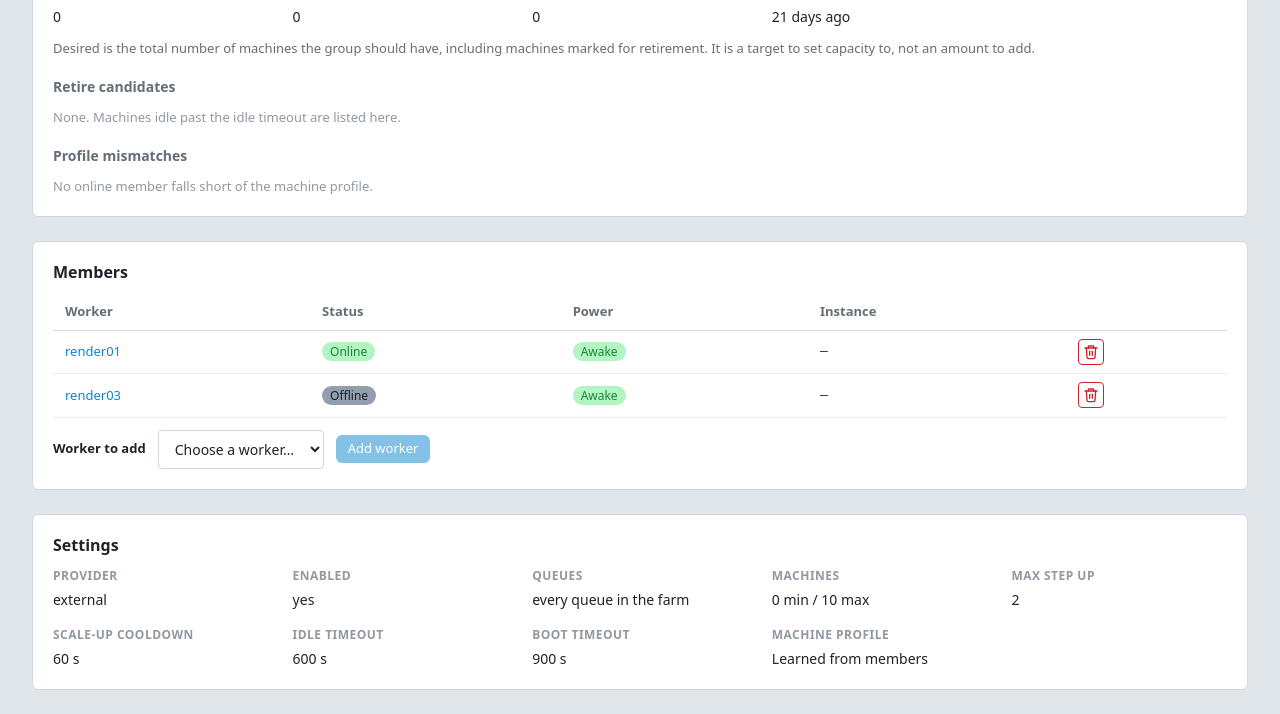
Scenario: members of a named group › shows the server reason when adding is refused
(page scrolled)
Select "render02" in the dropdown labelled "Worker to add" at (241, 449), box [158,430,324,468]
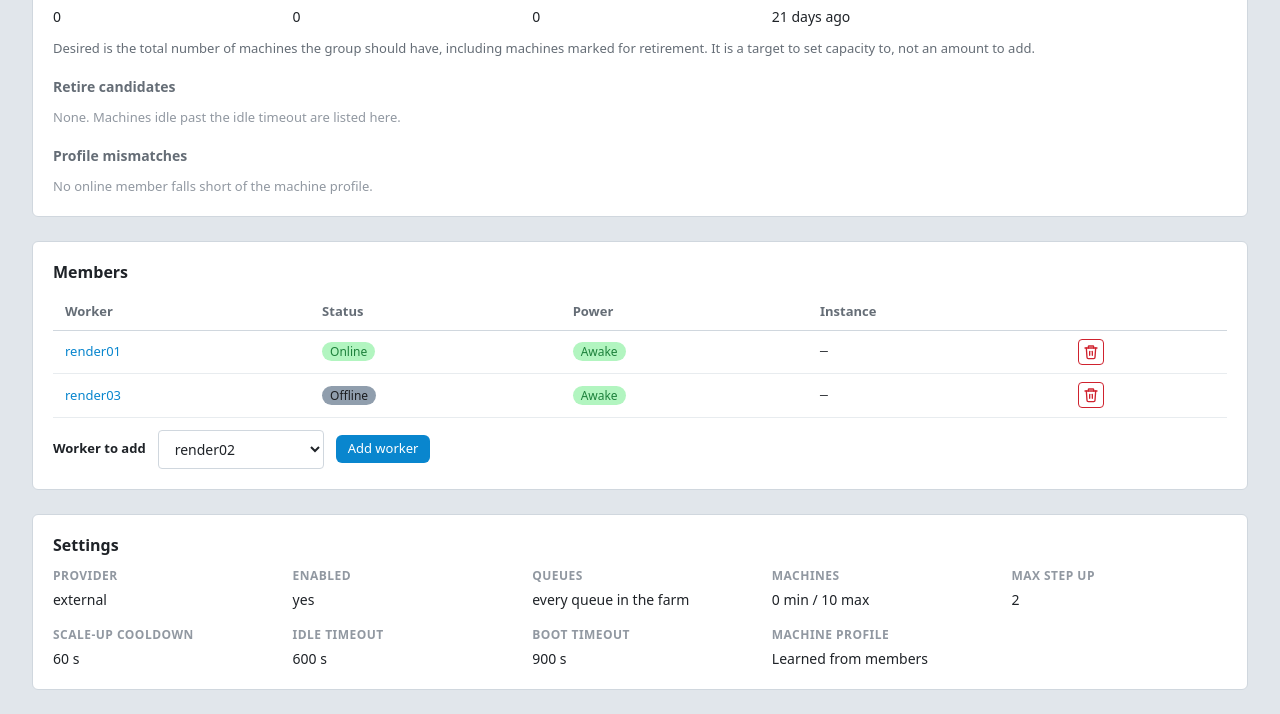
Click the button "Add worker" at (383, 449), box [336,435,430,463]
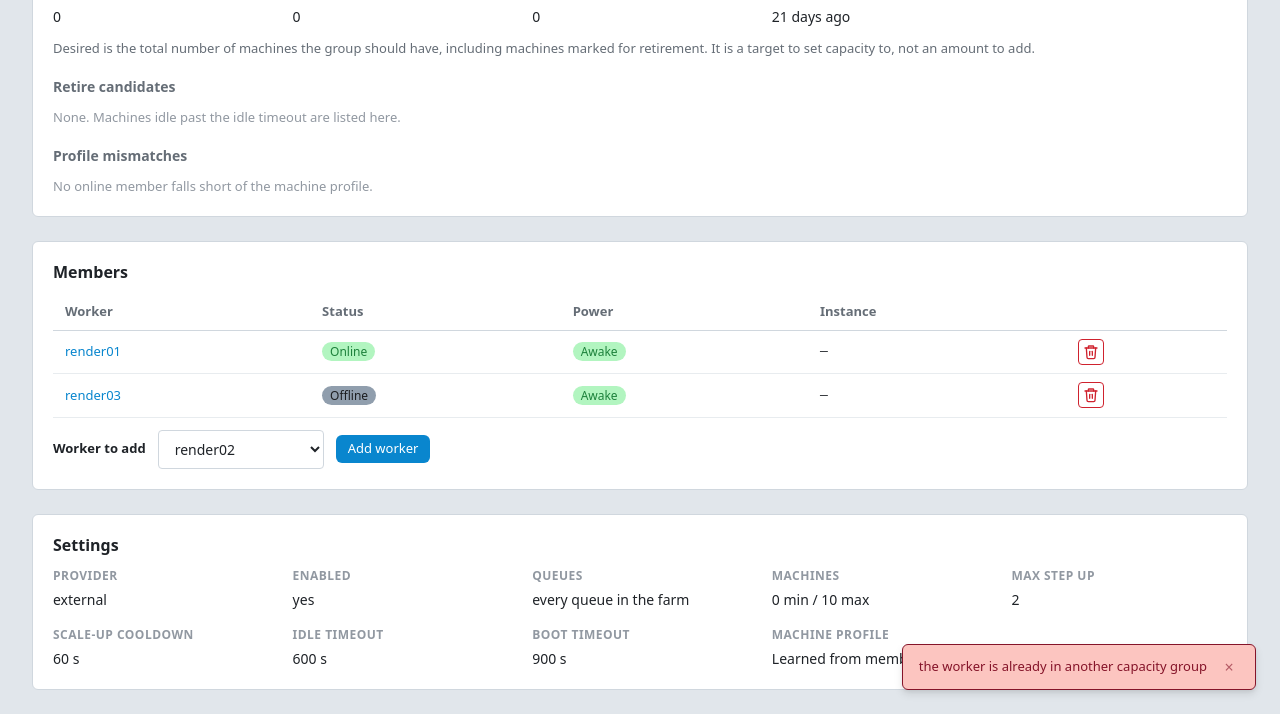
Check: the text "the worker is already in another capacity group" is shown, box [919,657,1207,677]
